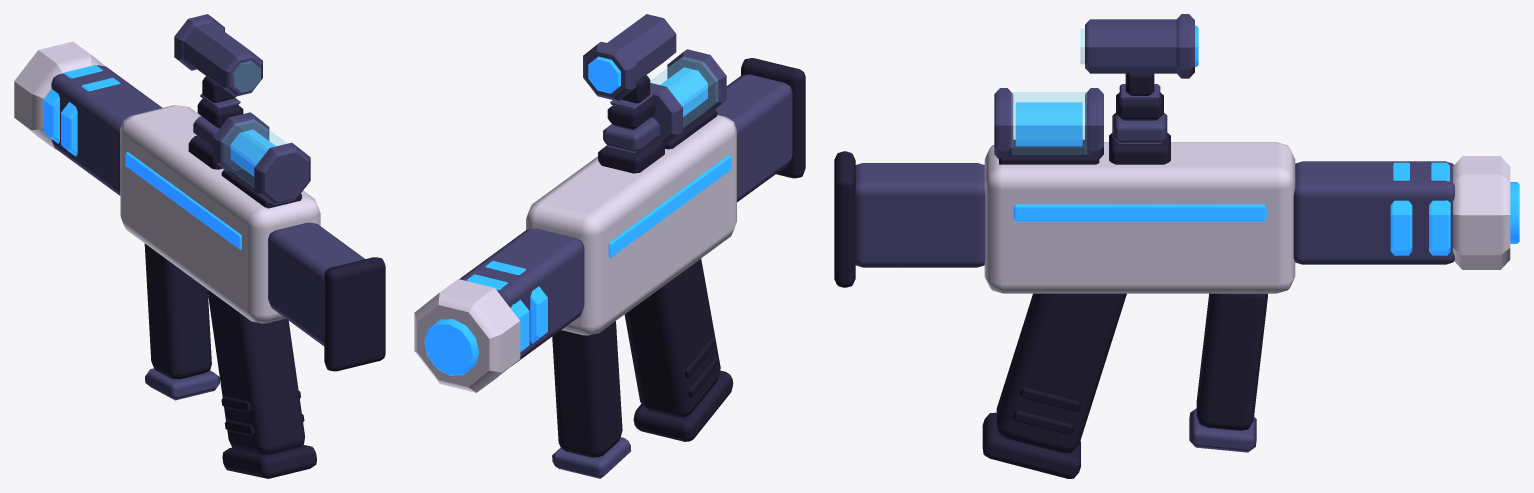
The model's file is beam_rifle.glb.
3 renders of one model, left to right at view 1: azimuth 30°, elevation 25°; view 2: azimuth 150°, elevation 25°; view 3: azimuth 270°, elevation 25°, orthographic. The views are drawn at different scales.
Visible parts, largest first — view 1: item.beam_rifle.body, part.cell; view 2: item.beam_rifle.body, part.cell; view 3: item.beam_rifle.body, part.cell.
Part boxes in pixels (x1,y1,x2,y2): item.beam_rifle.body: (14,14,385,478); part.cell: (213,112,310,208); item.beam_rifle.body: (414,14,805,478); part.cell: (650,49,726,149); item.beam_rifle.body: (834,14,1519,478); part.cell: (994,88,1103,164).
Bounding box in the file's own units: 0.1375 × 0.6468 × 0.8969.
